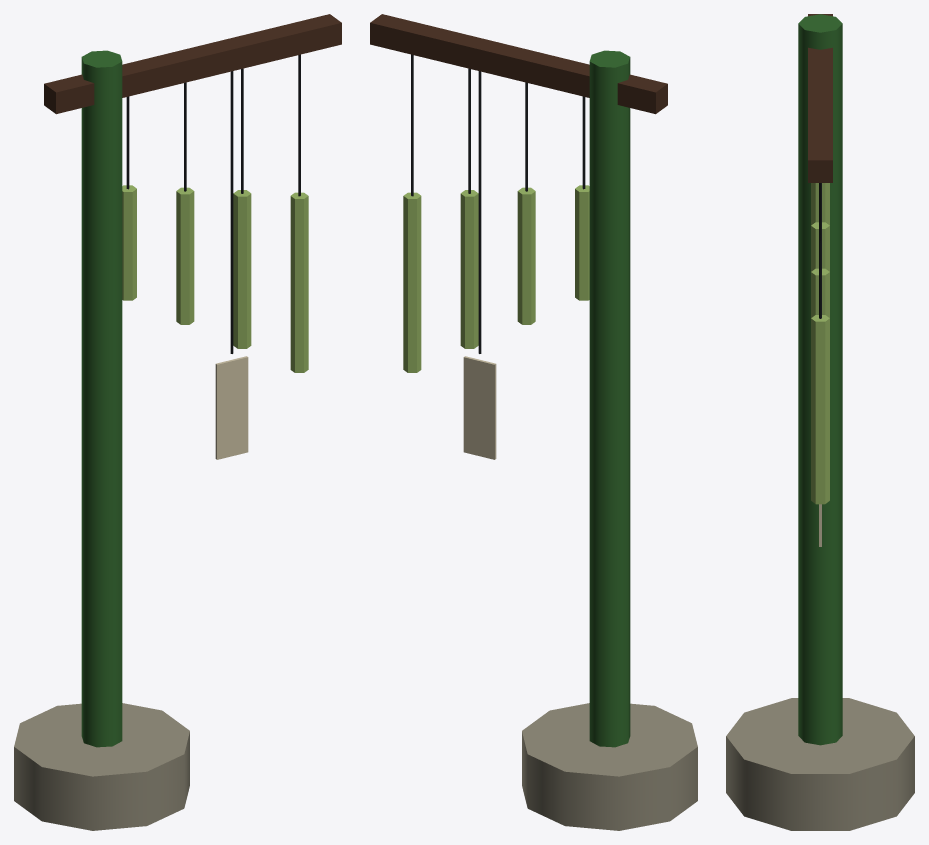
File: wind_chime_post.glb
The picture shows the model from 3 angles, left to right: view 1: azimuth 30°, elevation 25°; view 2: azimuth 150°, elevation 25°; view 3: azimuth 270°, elevation 25°; orthographic projection. The views are drawn at different scales.
Parts seen in each view (by area): view 1: ChimePost; view 2: ChimePost; view 3: ChimePost.
Boxes of the visible parts, bbox=[...] form: ChimePost: bbox=[14, 14, 341, 830]; ChimePost: bbox=[370, 14, 697, 830]; ChimePost: bbox=[726, 14, 914, 830].
Size of what is drawn, in the model's own units: 1.19 by 2.7 by 0.6.
